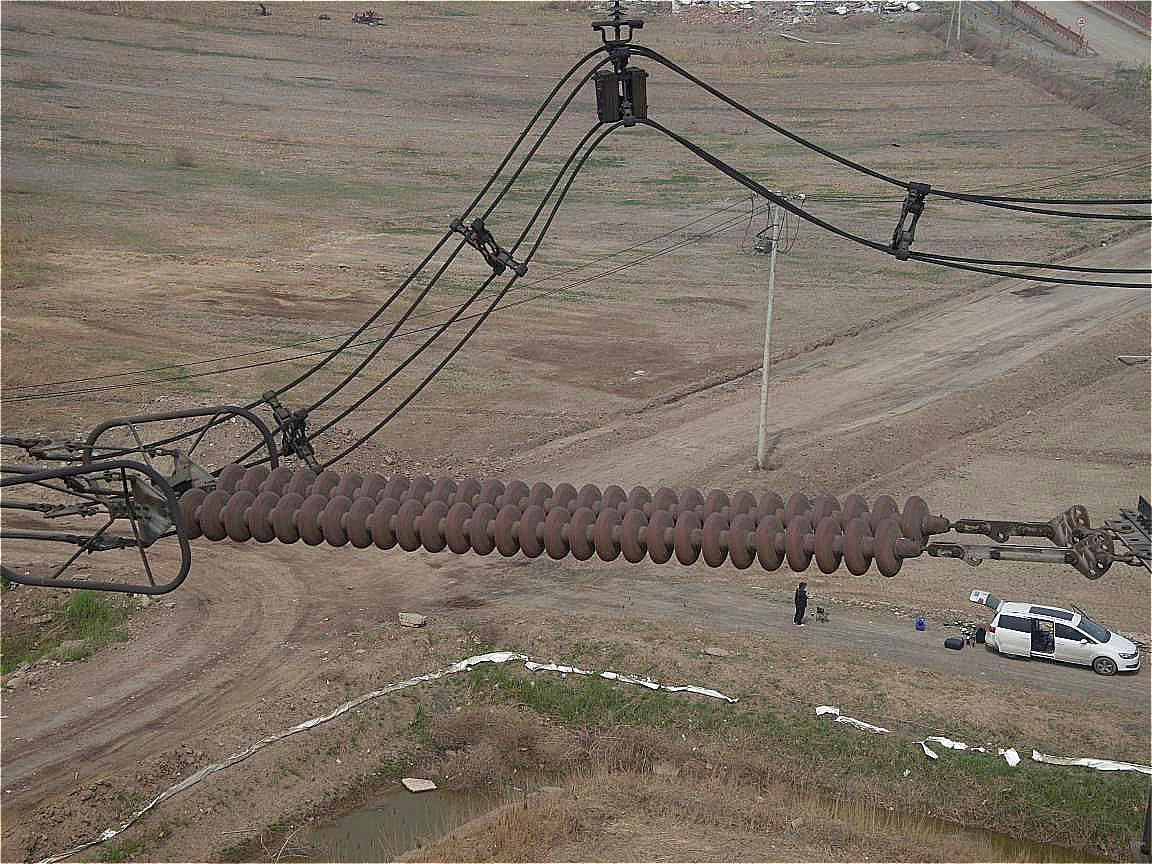insultor1: (167, 455, 938, 598)
